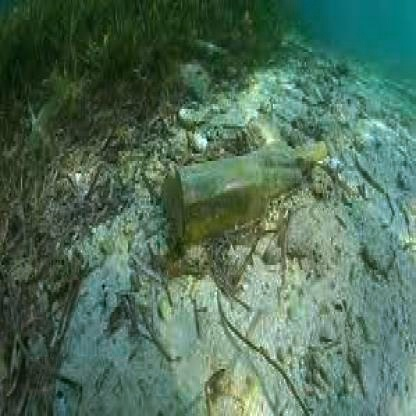gbottle: (166, 139, 328, 245)
